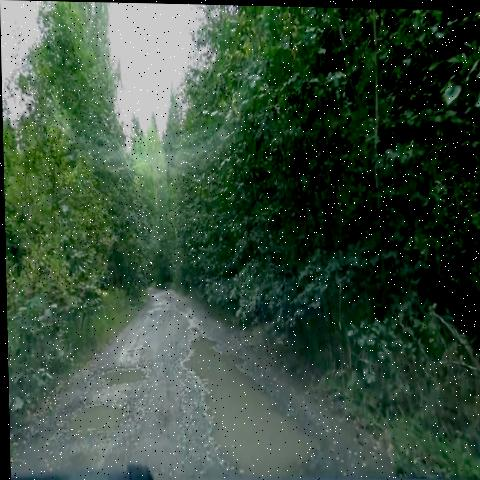pothole: (173, 319, 335, 477), (57, 394, 130, 440), (97, 358, 159, 393)
